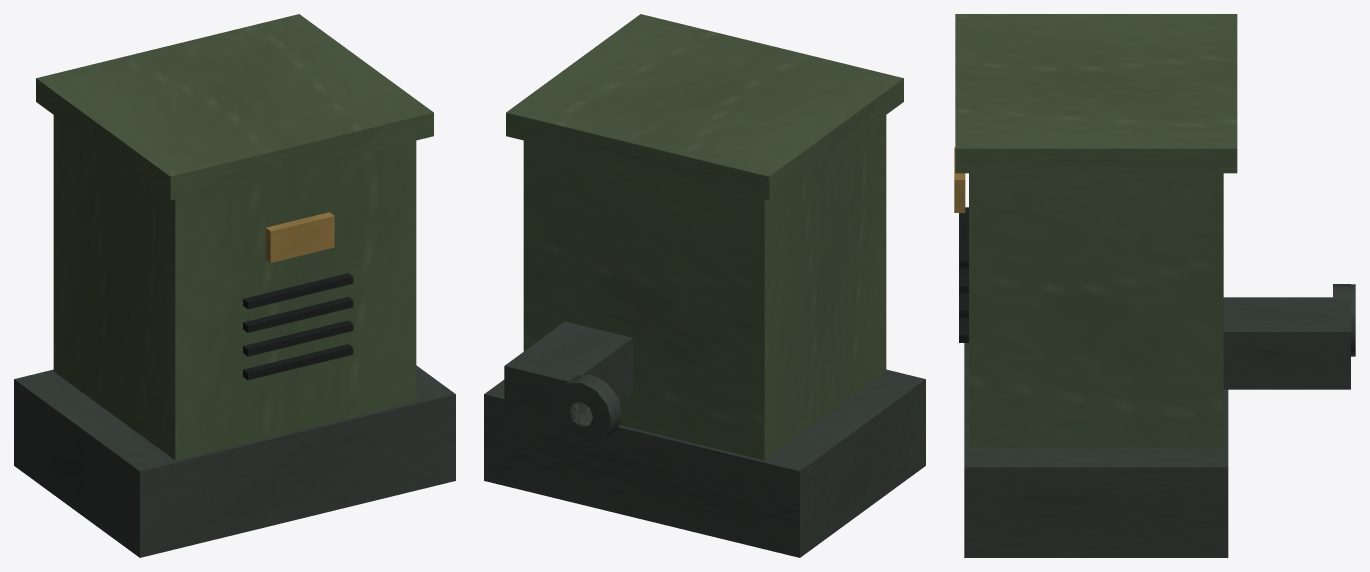
The model's file is SG_Drive_Reverse.glb.
3 views of the same model, side by side, from view 1: azimuth 30°, elevation 25°; view 2: azimuth 150°, elevation 25°; view 3: azimuth 270°, elevation 25° (orthographic). The views are drawn at different scales.
Parts seen in each view (by area): view 1: SG_Drive_Reverse; view 2: SG_Drive_Reverse; view 3: SG_Drive_Reverse.
Part boxes in pixels (x1,y1,x2,y2): SG_Drive_Reverse: (14,14,455,557); SG_Drive_Reverse: (484,14,925,557); SG_Drive_Reverse: (954,14,1355,557).
Size of the model in its own units: 0.42 by 0.48 by 0.441.
Materials: 1 (1 with a texture image).
